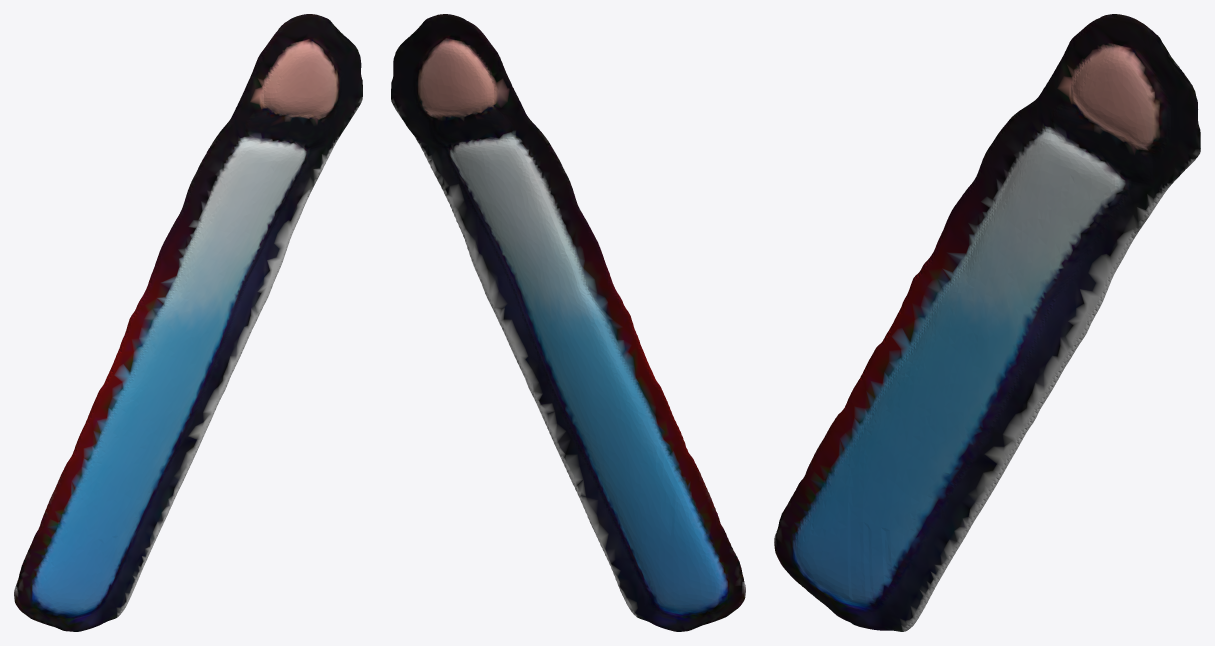
Rendered from vial_water.glb.
The picture shows the model from 3 angles, left to right: view 1: azimuth 30°, elevation 25°; view 2: azimuth 150°, elevation 25°; view 3: azimuth 330°, elevation 25°; orthographic projection. The views are drawn at different scales.
Parts seen in each view (by area): view 1: geometry_0; view 2: geometry_0; view 3: geometry_0.
Boxes of the visible parts, x1,y1,x2,y2 form: geometry_0: [14, 14, 362, 631]; geometry_0: [391, 14, 745, 631]; geometry_0: [774, 14, 1200, 631].
Bounding box in the file's own units: 0.3438 × 0.5258 × 0.0233.
